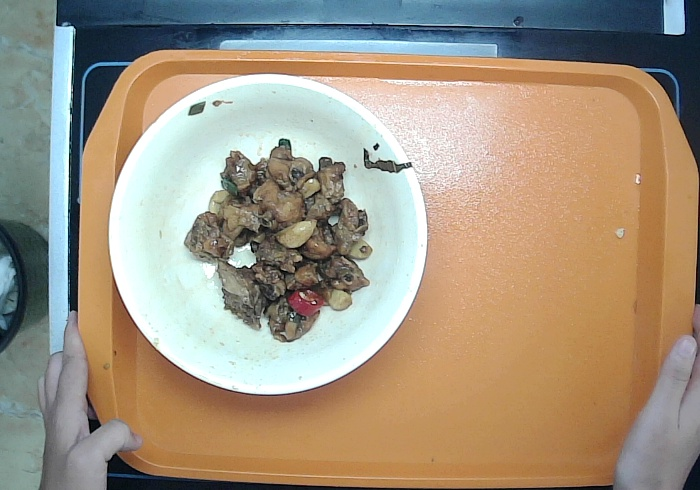ZNLD-Da_Tang_Wan: (107, 73, 430, 396)
